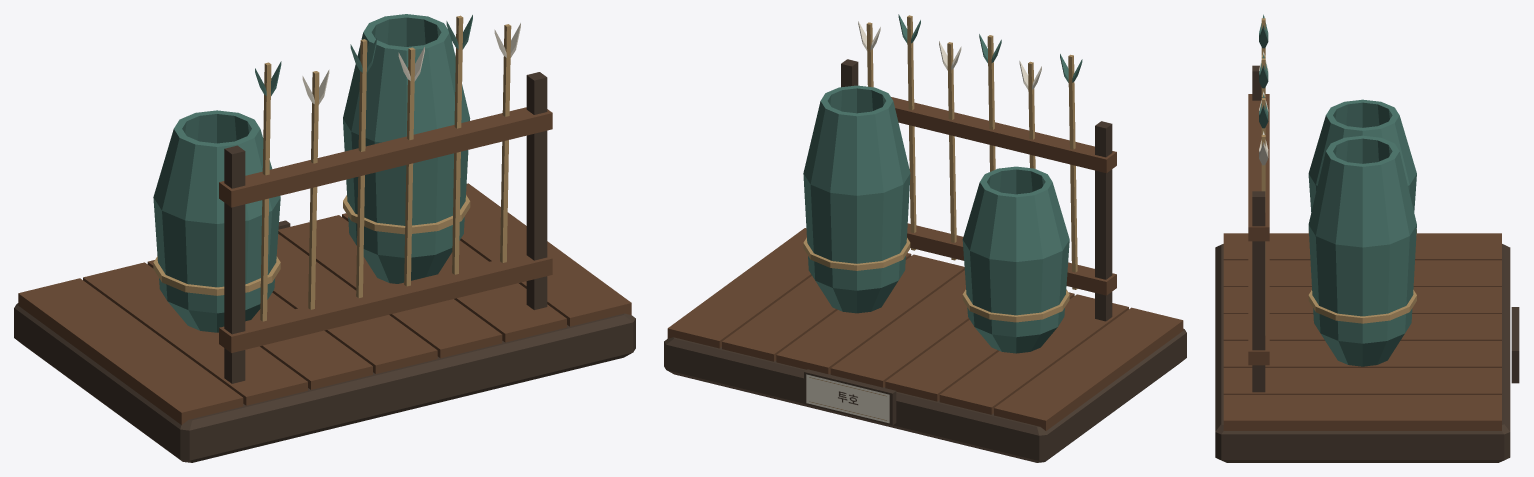
File: W05_Tuho_Game_Stand.fbx
3 renders of one model, left to right at view 1: azimuth 30°, elevation 25°; view 2: azimuth 150°, elevation 25°; view 3: azimuth 270°, elevation 25°, orthographic. The views are drawn at different scales.
Visible parts, largest first — view 1: Platform, Tuho_Pots, Arrow_Rack, Arrows; view 2: Platform, Tuho_Pots, Arrow_Rack, Arrows, Front_Label; view 3: Platform, Tuho_Pots, Arrow_Rack, Arrows, Front_Label.
Part boxes in pixels (bbox=[...]): Platform: bbox=[14, 183, 635, 462]; Tuho_Pots: bbox=[153, 14, 470, 332]; Arrow_Rack: bbox=[219, 72, 552, 383]; Arrows: bbox=[255, 15, 520, 321]; Platform: bbox=[664, 228, 1186, 462]; Tuho_Pots: bbox=[803, 85, 1069, 353]; Arrow_Rack: bbox=[841, 59, 1116, 321]; Arrows: bbox=[858, 14, 1082, 289]; Front_Label: bbox=[804, 369, 896, 425]; Platform: bbox=[1215, 233, 1510, 462]; Tuho_Pots: bbox=[1308, 99, 1416, 366]; Arrow_Rack: bbox=[1248, 65, 1269, 392]; Arrows: bbox=[1259, 14, 1268, 335]; Front_Label: bbox=[1511, 307, 1519, 383].
Size of the model in its own units: 1.9 by 1.42 by 1.29.
Materials: 6 (1 with a texture image).
